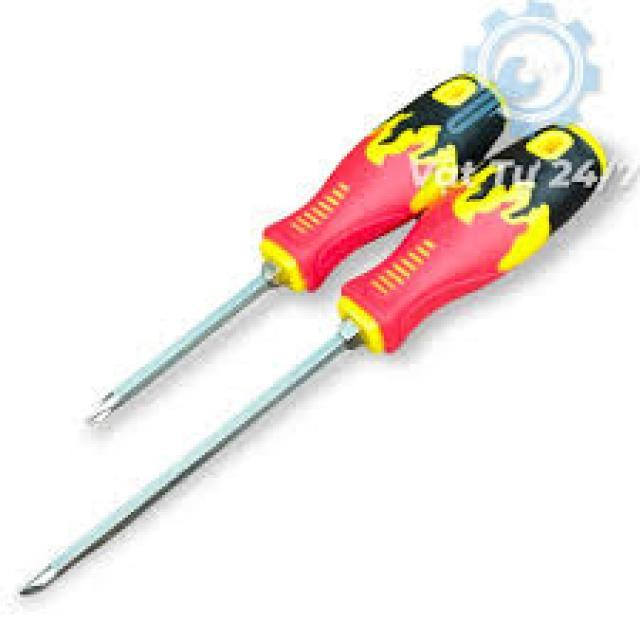screwdriver: (16, 120, 614, 608), (82, 71, 512, 427)
